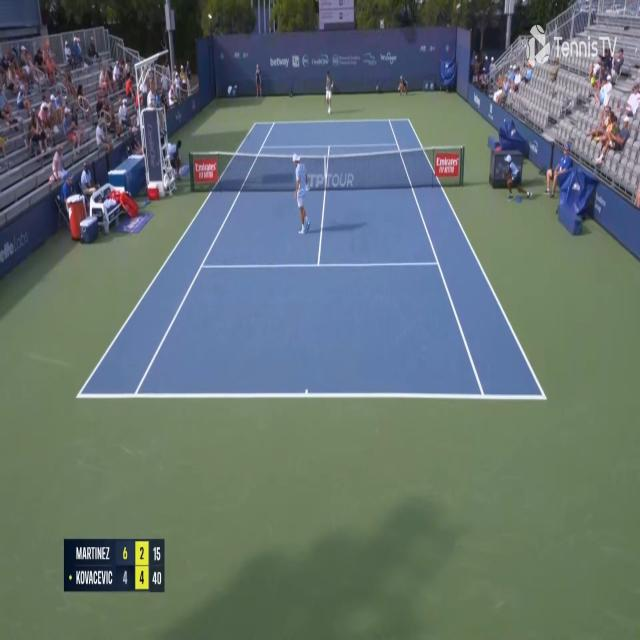tennis-player: (292, 151, 310, 237), (323, 69, 336, 116)
